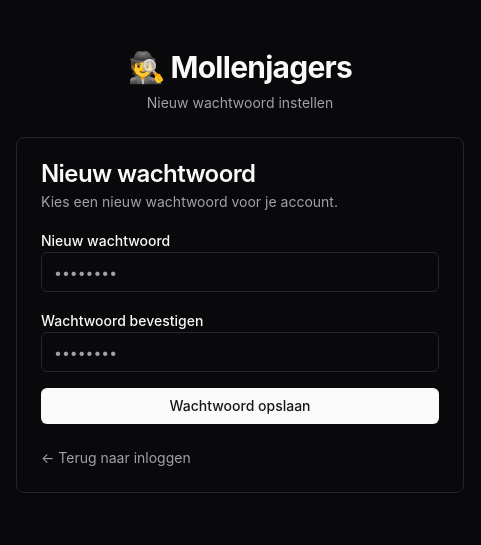
Scenario: ResetPasswordPage › shows error when fields are empty
Click the button "Wachtwoord opslaan" at (240, 406), box [41, 388, 439, 424]
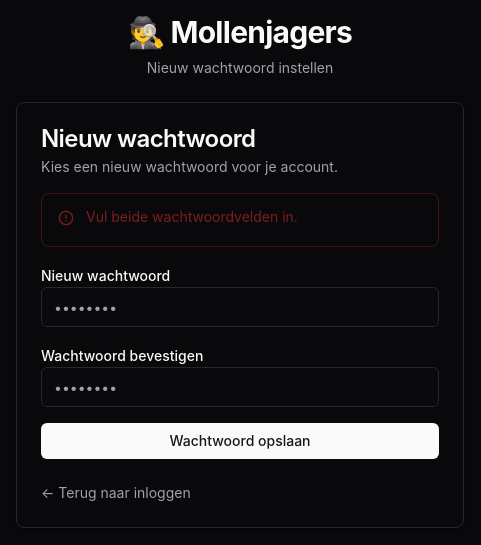
Now the text "Vul beide wachtwoordvelden in." is shown, box [86, 208, 298, 225]
